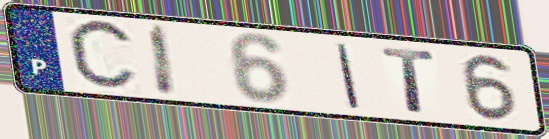6: (226, 29, 294, 108), (458, 52, 521, 124)
C: (64, 16, 142, 95)
I: (147, 21, 180, 100), (333, 40, 363, 111)
T: (378, 45, 440, 116)
